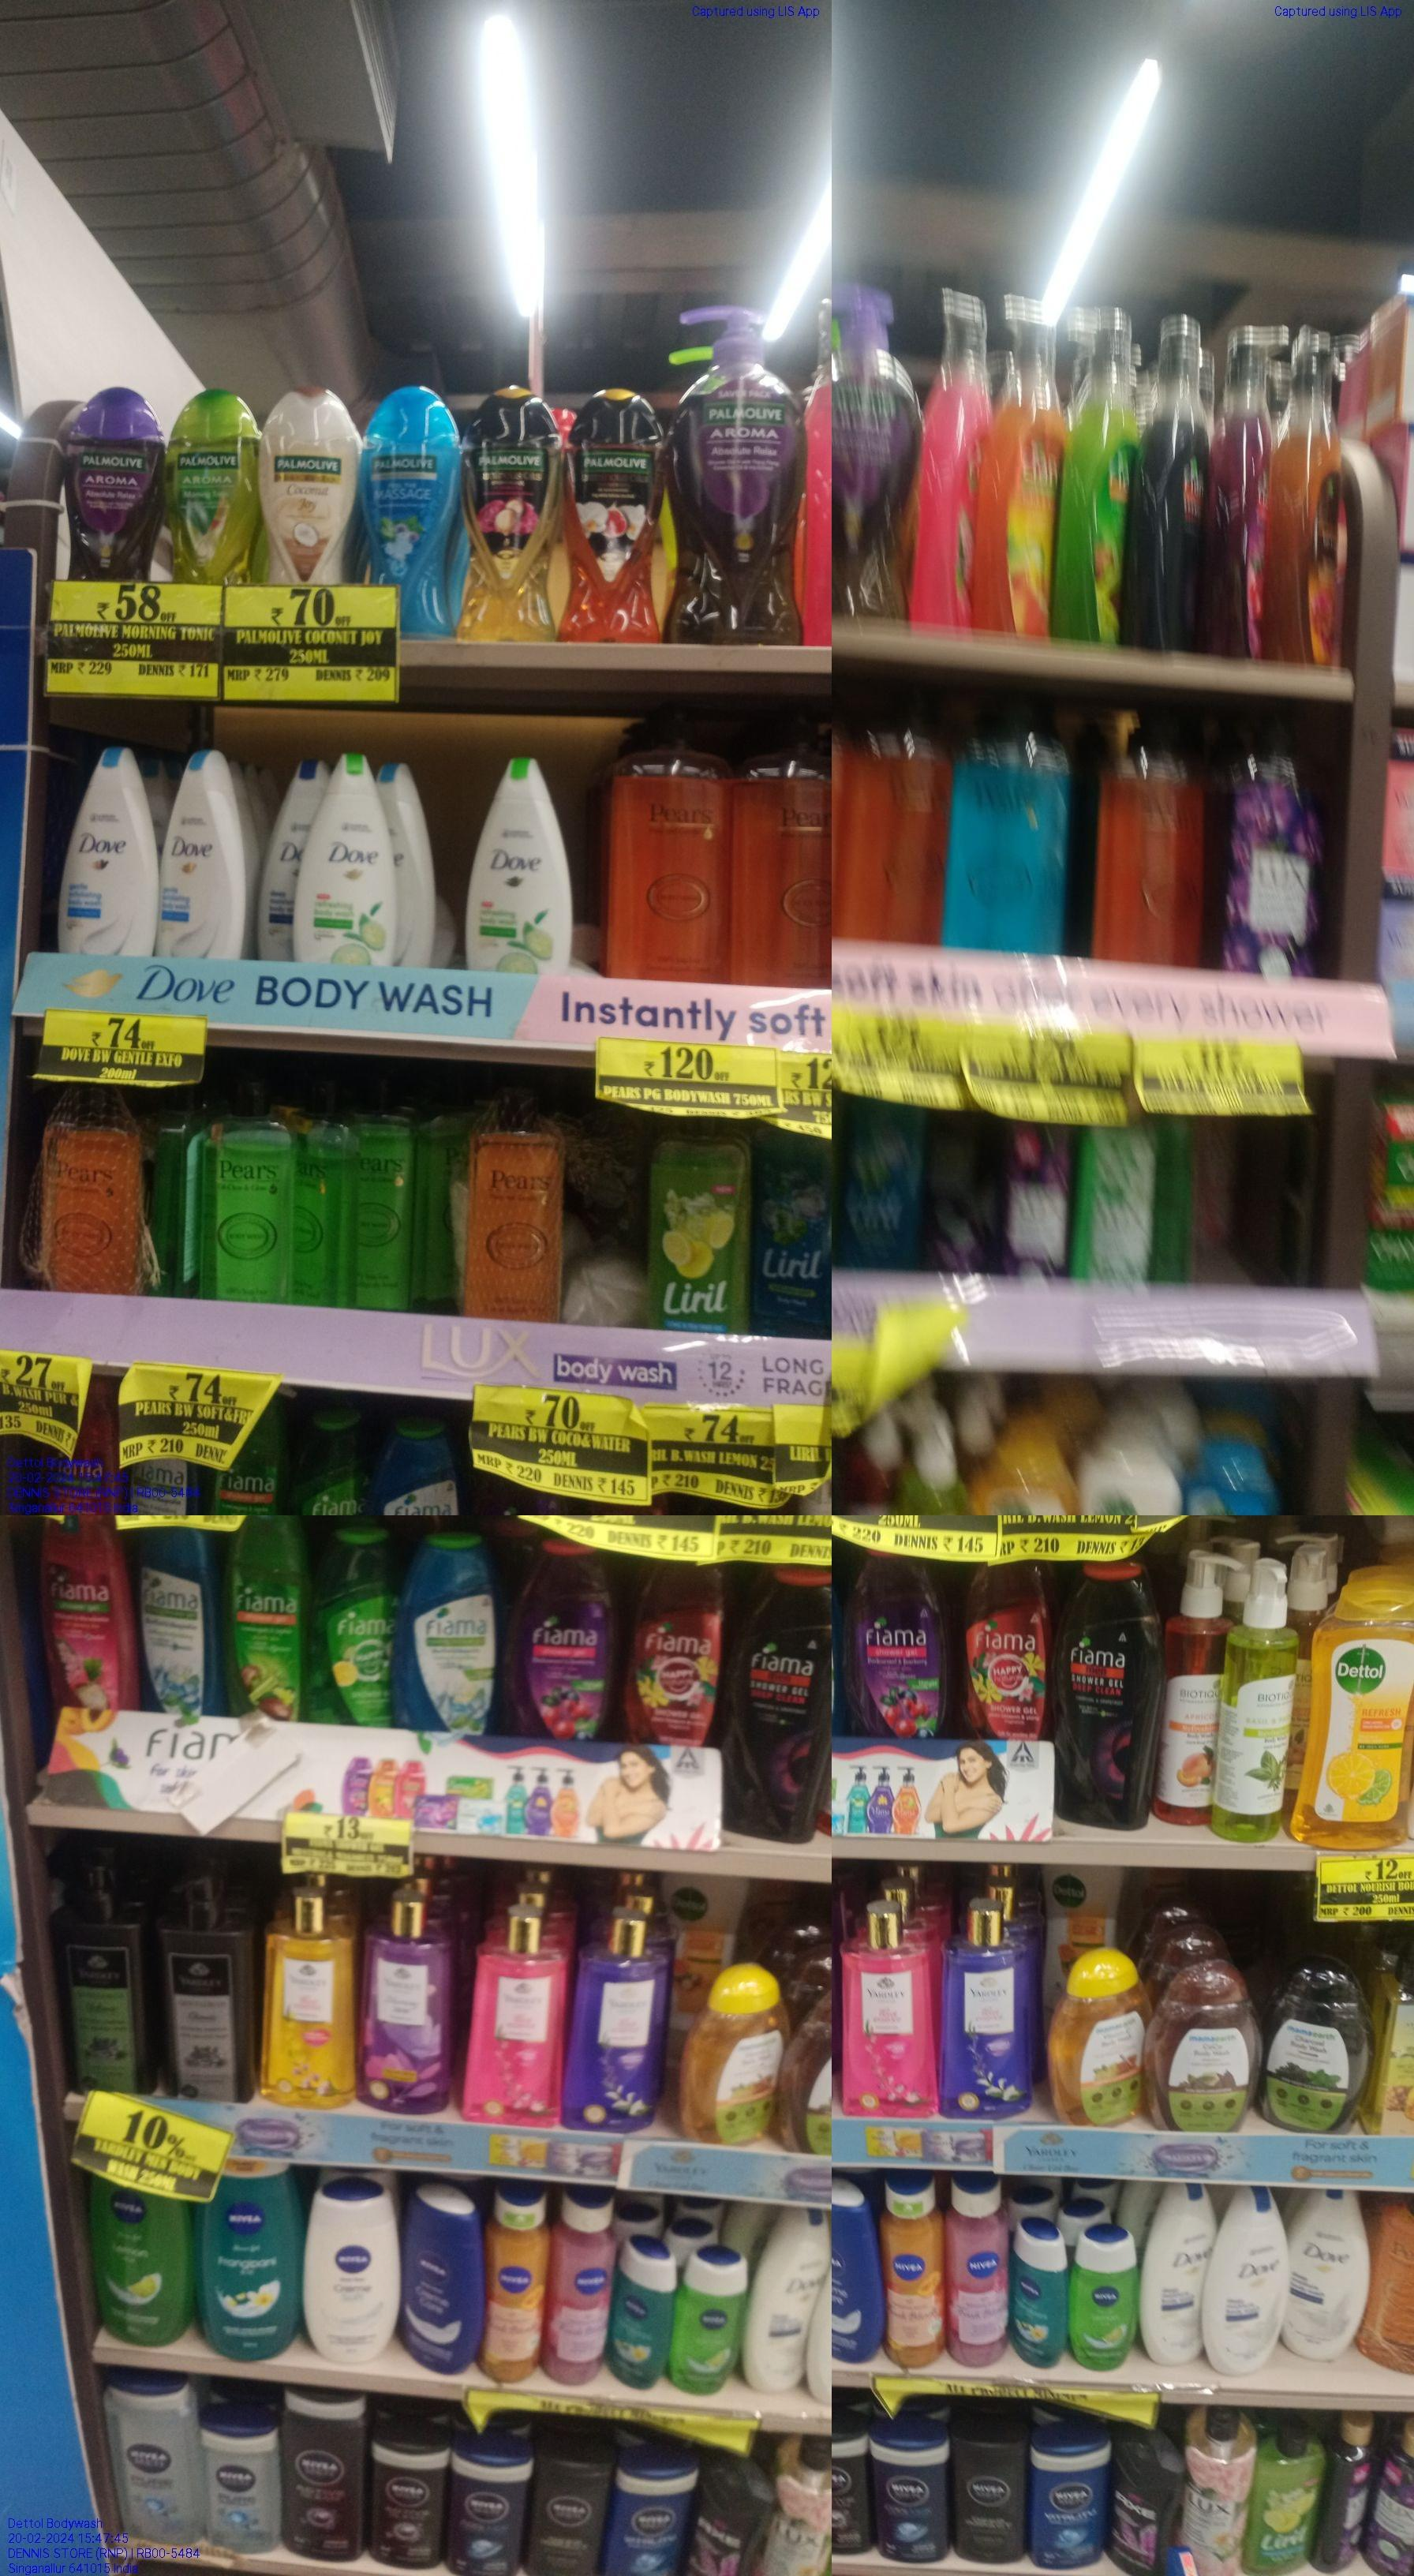Dettol_Bodywash_Refresh: (1299, 1585, 1414, 1850)
Dove_Deep_Moisture_Body_Wash_250ML: (1212, 2184, 1285, 2372), (1290, 2186, 1367, 2360), (1141, 2181, 1205, 2369)
Dove_Gentle_Exfoliating_Body_Wash_250ML: (59, 744, 158, 958), (165, 744, 246, 956)
Dove_Refreshing_Body_Wash_250ML: (465, 765, 573, 974), (294, 754, 397, 963)
Fiama_Shower_Gel_Lemongrass_and_Jojoba_250ML: (228, 1515, 303, 1721)
Fiama_Shower_Gel_Patchouli_and_Macadamia_250ML: (38, 1512, 127, 1710)
Liril_Cooling_Mint_Body_Wash_250ML: (757, 1125, 832, 1336)
Liril_Lime_and_Tea_Tree_Oil_Body_Wash_250ML: (648, 1116, 751, 1332), (1256, 2409, 1318, 2576)
Lux_Black_Orchid_Scent_and_Juniper_Oil_Body_Wash_245ML: (1001, 1118, 1067, 1277)
Lux_Body_Wash_Skin_Detox_Freesia_Scent_and_Alove_Vera_245ML: (1076, 1123, 1155, 1282)
Nivea_Creme_Care_Body_Wash_250ML: (404, 2191, 481, 2374)
Nivea_Creme_Soft_Body_Wash_250ML: (303, 2182, 401, 2365)
Nivea_Shower_Gel_Frangipani_and_Oil_250ML: (202, 2163, 296, 2355)
Nivea_Shower_Gel_Lemon_and_Oil_250ML: (92, 2175, 197, 2344)
Palmolive_Aroma_Moments_Feel_The_Massage_Shower_Gel_250ML: (360, 383, 460, 629)
Palmolive_Aroma_Morning_Tonic_Shower_Gel_250ML: (171, 394, 254, 582)
Palmolive_Aroma_Relax_250ML: (64, 388, 164, 578)
Palmolive_Luminous_Oils_Invigorating_Macadamia_Oil_With_Peony_250ML: (465, 385, 559, 643)
Palmolive_Luminous_Oils_With_White_Orchid_Shower_Gel_250ML: (568, 392, 663, 641)
Pears_Pure_Glycerin_and_Lemon_Flower_Extracts_Body_Wash_250ML: (199, 1078, 296, 1303)
